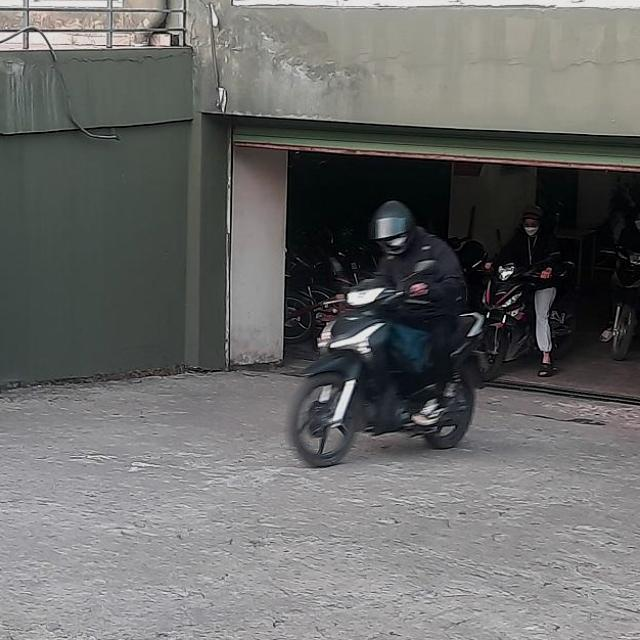Helmet: (372, 196, 419, 254)
